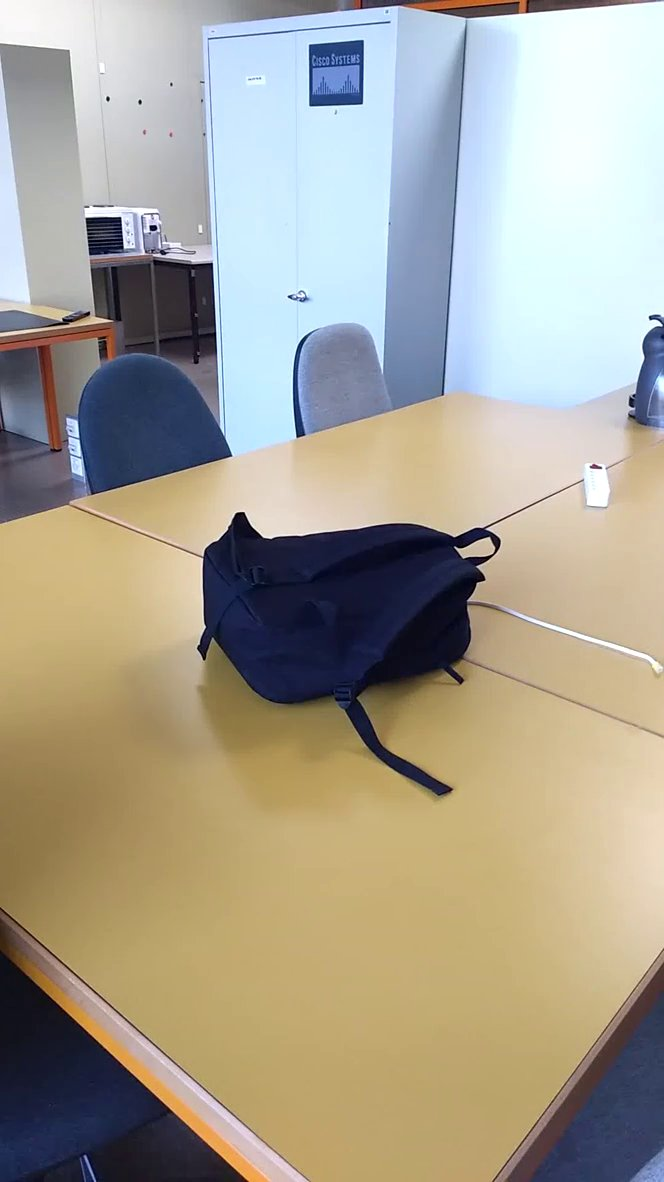bag: (178, 501, 517, 813)
chair: (69, 339, 238, 508), (279, 307, 421, 489)
